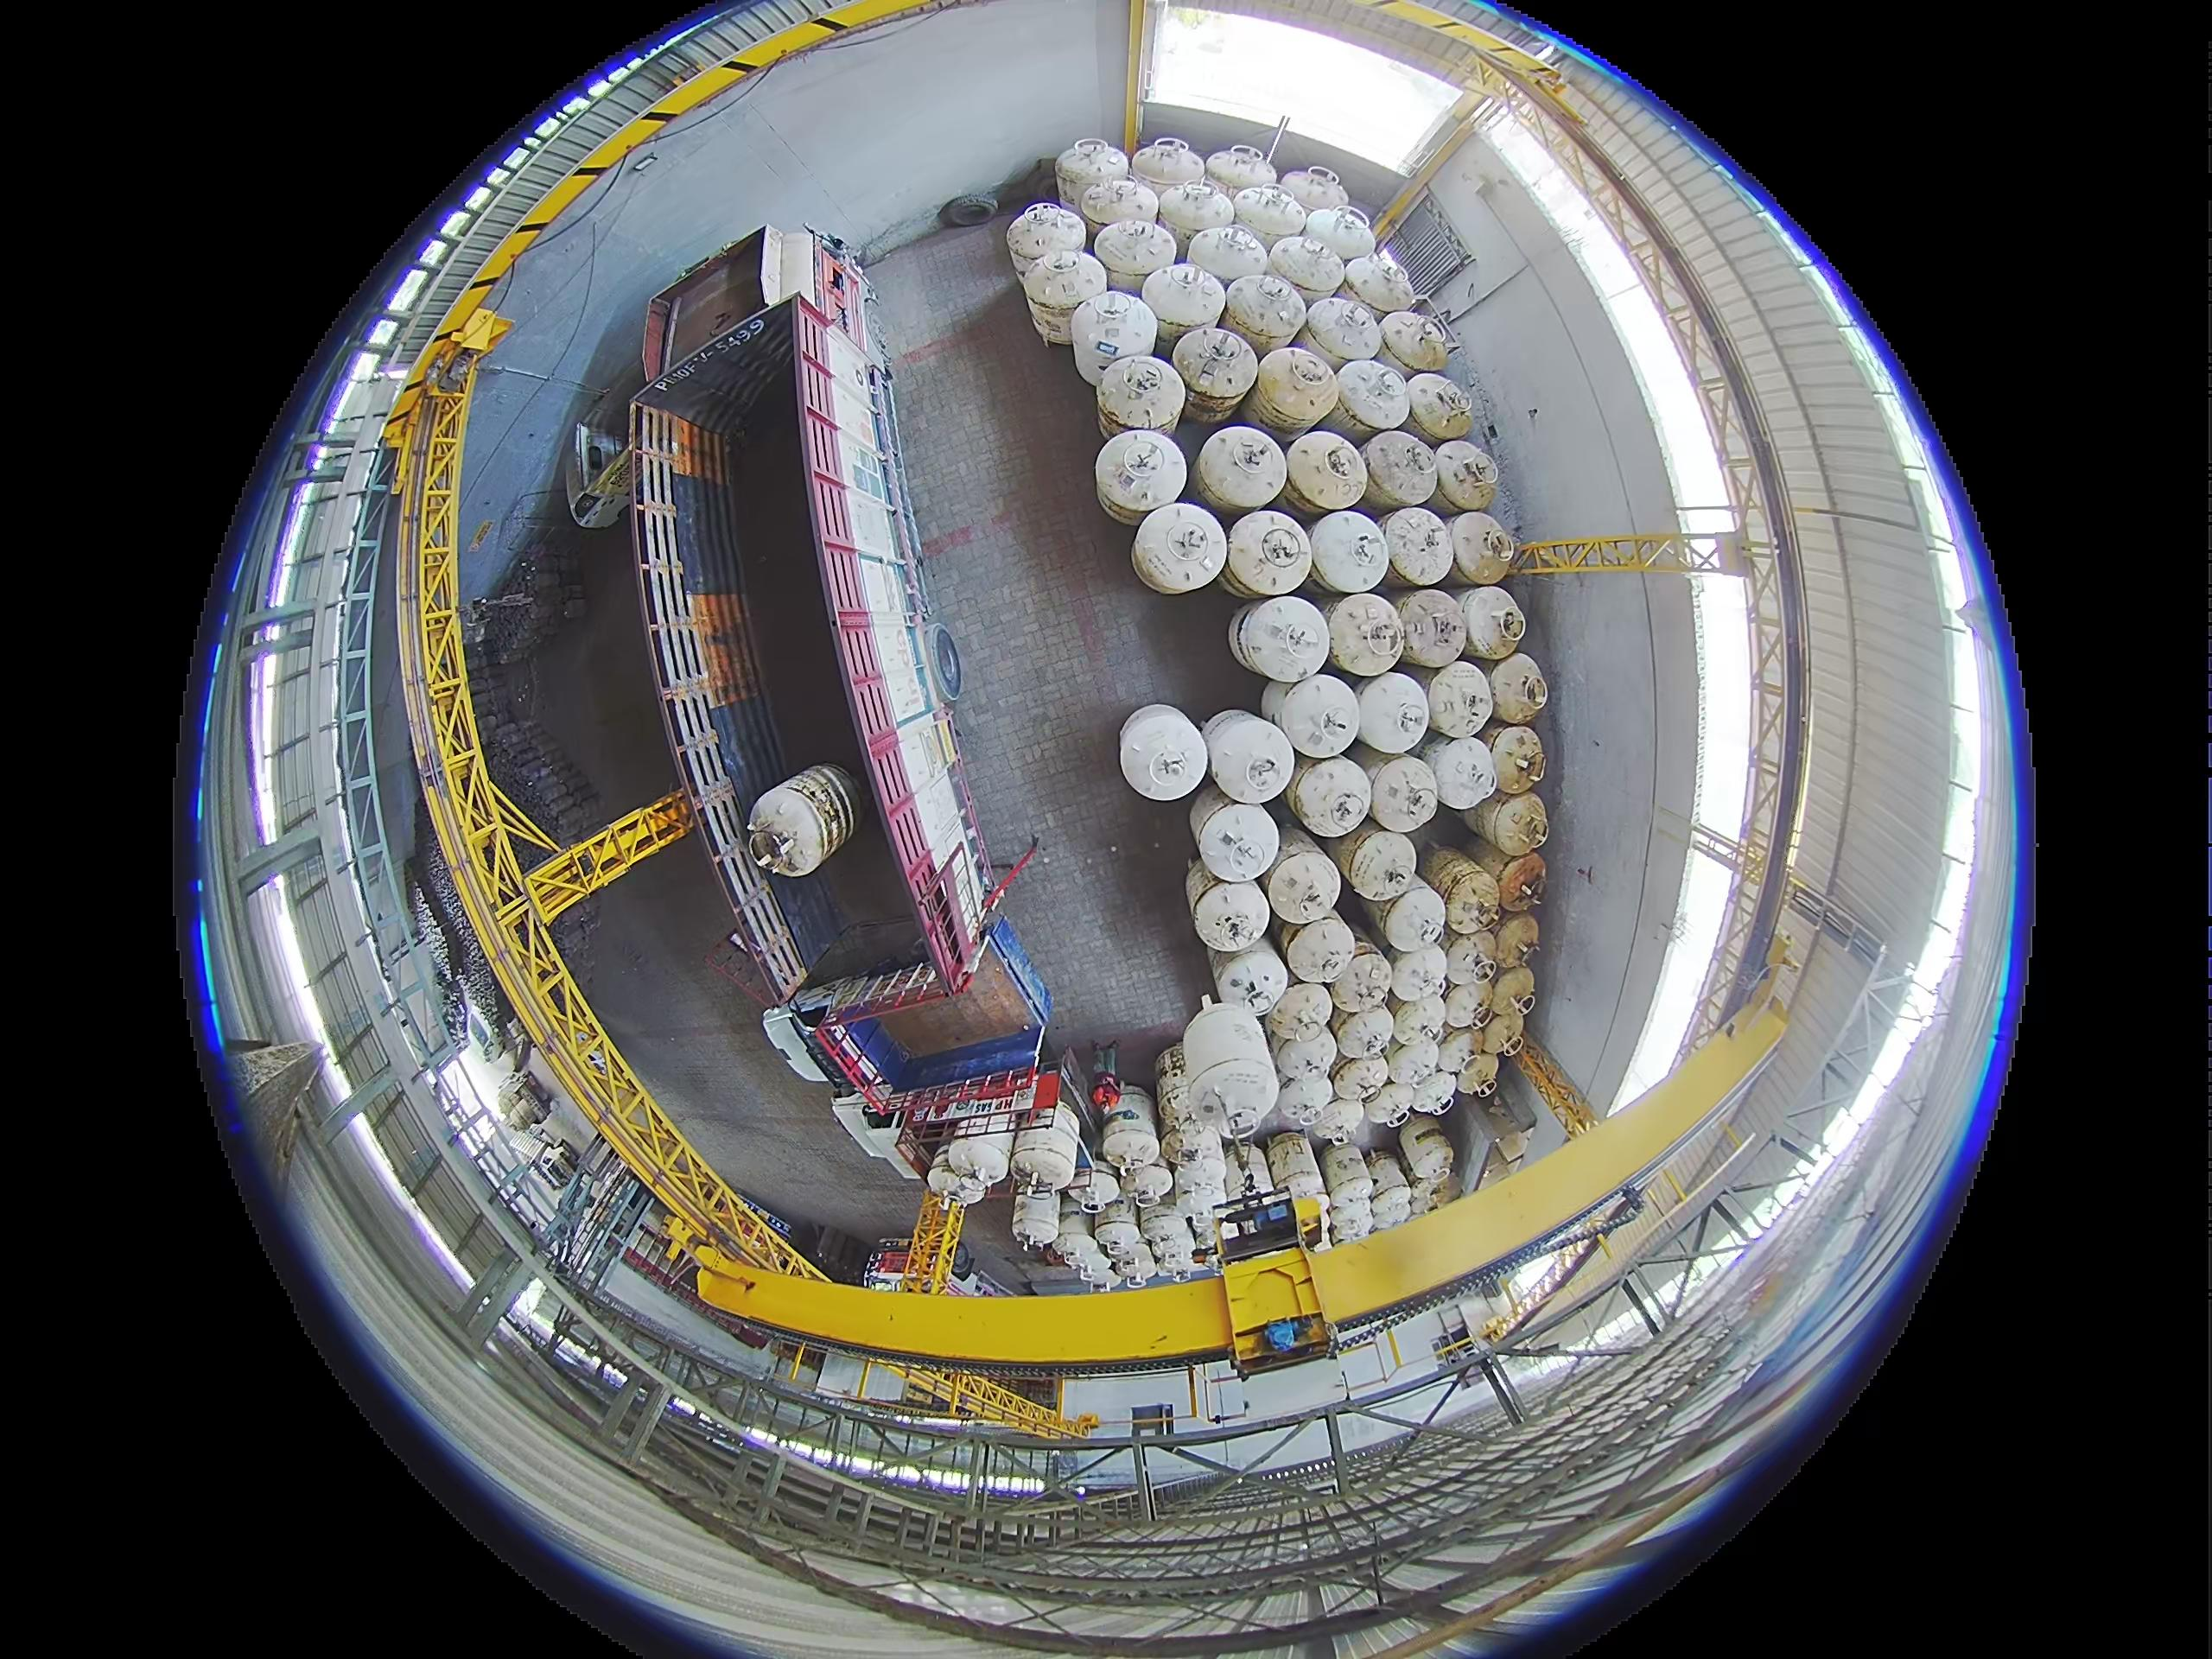cylinder: (1113, 690, 1226, 828), (1176, 993, 1280, 1140), (1130, 502, 1226, 594), (1092, 430, 1184, 526), (1205, 711, 1298, 805), (1235, 594, 1329, 685), (1197, 425, 1287, 516), (1170, 324, 1259, 416), (1252, 345, 1341, 436), (1275, 671, 1362, 762), (1224, 511, 1313, 598), (1193, 798, 1282, 884), (1284, 430, 1369, 518), (1287, 755, 1374, 840), (1306, 509, 1392, 594), (1069, 291, 1151, 380), (1097, 352, 1183, 436), (1141, 260, 1226, 343), (1332, 821, 1416, 904), (1221, 272, 1308, 352), (1324, 592, 1406, 676), (1261, 847, 1343, 927), (1332, 355, 1411, 437), (1364, 429, 1440, 512), (1355, 673, 1432, 755), (1423, 734, 1500, 814), (1383, 505, 1458, 587), (1191, 877, 1273, 951), (1303, 295, 1385, 369), (1393, 589, 1468, 669), (1282, 915, 1362, 990), (1188, 221, 1273, 291), (1367, 755, 1442, 833), (1425, 659, 1496, 741), (1212, 946, 1289, 1021), (1157, 179, 1235, 253), (1421, 847, 1494, 925), (1055, 138, 1130, 213), (1268, 234, 1346, 305), (1094, 218, 1174, 288), (1005, 200, 1083, 268), (1458, 586, 1527, 660), (1082, 178, 1160, 244), (1451, 511, 1521, 584), (1379, 880, 1449, 953), (1402, 371, 1472, 444), (1264, 979, 1336, 1049), (1301, 204, 1378, 268), (1129, 138, 1205, 202), (1233, 185, 1310, 249), (1432, 439, 1500, 511), (1379, 310, 1453, 376), (1014, 1127, 1082, 1197), (1482, 725, 1547, 798), (1341, 251, 1416, 314), (1484, 652, 1548, 723), (948, 1134, 1012, 1206), (1486, 789, 1550, 857), (1057, 1215, 1118, 1286), (1329, 950, 1395, 1014), (1012, 1190, 1069, 1262), (1205, 145, 1278, 199), (1386, 948, 1449, 1011), (1271, 1030, 1334, 1091), (1278, 166, 1350, 218), (942, 1246, 1014, 1298), (1022, 289, 1083, 350), (1331, 1007, 1395, 1065), (1080, 1154, 1130, 1227), (1266, 1131, 1320, 1199), (1273, 1070, 1334, 1129), (1385, 1037, 1444, 1098), (1399, 1119, 1454, 1183), (1442, 932, 1500, 993), (1388, 995, 1446, 1054), (1320, 1143, 1374, 1206), (1308, 1094, 1369, 1147), (1331, 1054, 1392, 1107), (1496, 852, 1548, 913), (1157, 1072, 1198, 1147), (1261, 676, 1308, 739), (937, 1147, 982, 1211), (1440, 981, 1494, 1035), (1474, 1009, 1527, 1063), (1143, 1216, 1195, 1272), (1360, 1080, 1418, 1131), (1487, 964, 1536, 1023), (1493, 913, 1541, 971), (859, 1241, 909, 1291), (1327, 1190, 1376, 1243), (1407, 1070, 1458, 1119), (1367, 1182, 1414, 1230), (1435, 1026, 1480, 1077), (1409, 1173, 1458, 1218), (1362, 1152, 1404, 1199), (1458, 1049, 1500, 1094), (1494, 1127, 1531, 1168)
truck: (632, 237, 988, 988), (765, 941, 1052, 1117), (641, 220, 852, 422), (819, 1110, 1148, 1206), (592, 1190, 792, 1345), (533, 396, 665, 533), (897, 1358, 1064, 1429), (705, 925, 789, 1012)
